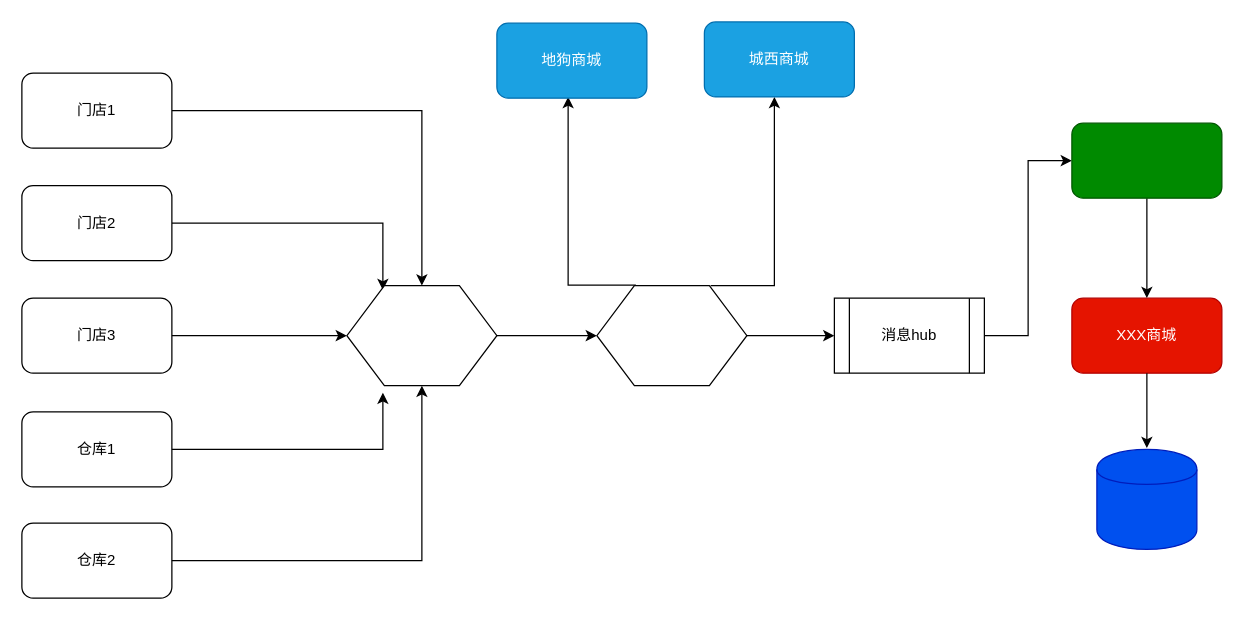
Some shapes in this 1244 by 620 pixel diagram are drawn without their labels. The box of each missing label's shape, as (x1, y1, x2, y2) in pixels:
WMS: (346, 284, 497, 386)
分发平台: (596, 284, 747, 386)
库存DB: (1096, 448, 1197, 549)
服务中心: (1071, 122, 1222, 198)
